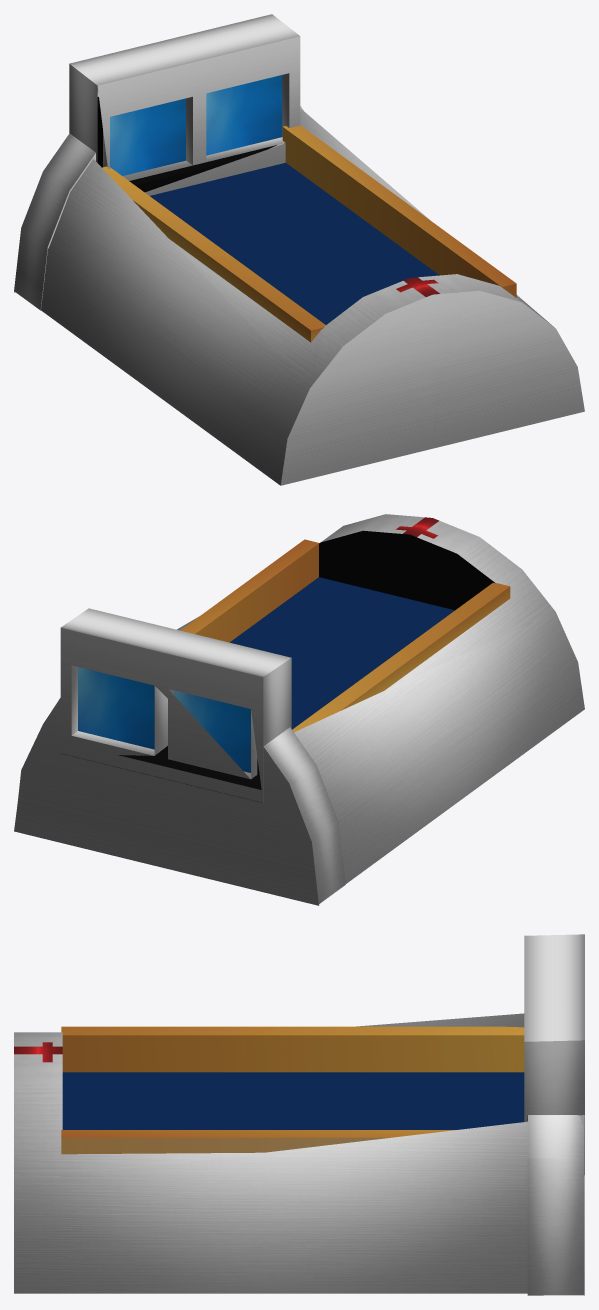
The model's file is Sanador.obj.
The picture shows the model from 3 angles, top to bottom: view 1: azimuth 30°, elevation 25°; view 2: azimuth 150°, elevation 25°; view 3: azimuth 270°, elevation 25°; orthographic projection. The views are drawn at different scales.
Parts seen in each view (by area): view 1: polySurface8, polySurface2, polySurface11, pCube1, polySurface10 polySurface12, pasted__pCube1 group17, pasted__pasted__polySurface7 pasted__group12 group16, pasted__polySurface7 group12; view 2: polySurface8, polySurface11, polySurface2, polySurface10 polySurface12, pCube1, pasted__pCube1 group17, pasted__polySurface7 group12, pasted__pasted__polySurface7 pasted__group12 group16; view 3: polySurface8, polySurface2, pasted__pCube1 group17, polySurface11, polySurface10 polySurface12, pCube1, polySurface13 polySurface10.
Boxes of the visible parts, x1,y1,x2,y2 form: polySurface8: [14, 108, 584, 485]; polySurface2: [150, 162, 439, 324]; polySurface11: [69, 14, 300, 195]; pCube1: [282, 125, 516, 297]; polySurface10 polySurface12: [14, 106, 303, 310]; pasted__pCube1 group17: [102, 166, 325, 342]; pasted__pasted__polySurface7 pasted__group12 group16: [97, 96, 185, 175]; pasted__polySurface7 group12: [206, 75, 282, 155]; polySurface8: [14, 514, 584, 905]; polySurface11: [60, 608, 291, 802]; polySurface2: [230, 577, 454, 729]; polySurface10 polySurface12: [14, 725, 345, 903]; pCube1: [180, 539, 319, 642]; pasted__pCube1 group17: [292, 583, 510, 732]; pasted__polySurface7 group12: [78, 667, 167, 752]; pasted__pasted__polySurface7 pasted__group12 group16: [174, 690, 259, 776]; polySurface8: [14, 1013, 584, 1295]; polySurface2: [62, 1072, 524, 1129]; pasted__pCube1 group17: [61, 1026, 524, 1072]; polySurface11: [524, 934, 584, 1174]; polySurface10 polySurface12: [527, 1115, 584, 1295]; pCube1: [61, 1130, 455, 1154]; polySurface13 polySurface10: [528, 1115, 584, 1158].
Size of the model in its own units: 4.31 by 2.91 by 6.52.
Materials: 7 (6 with a texture image).
